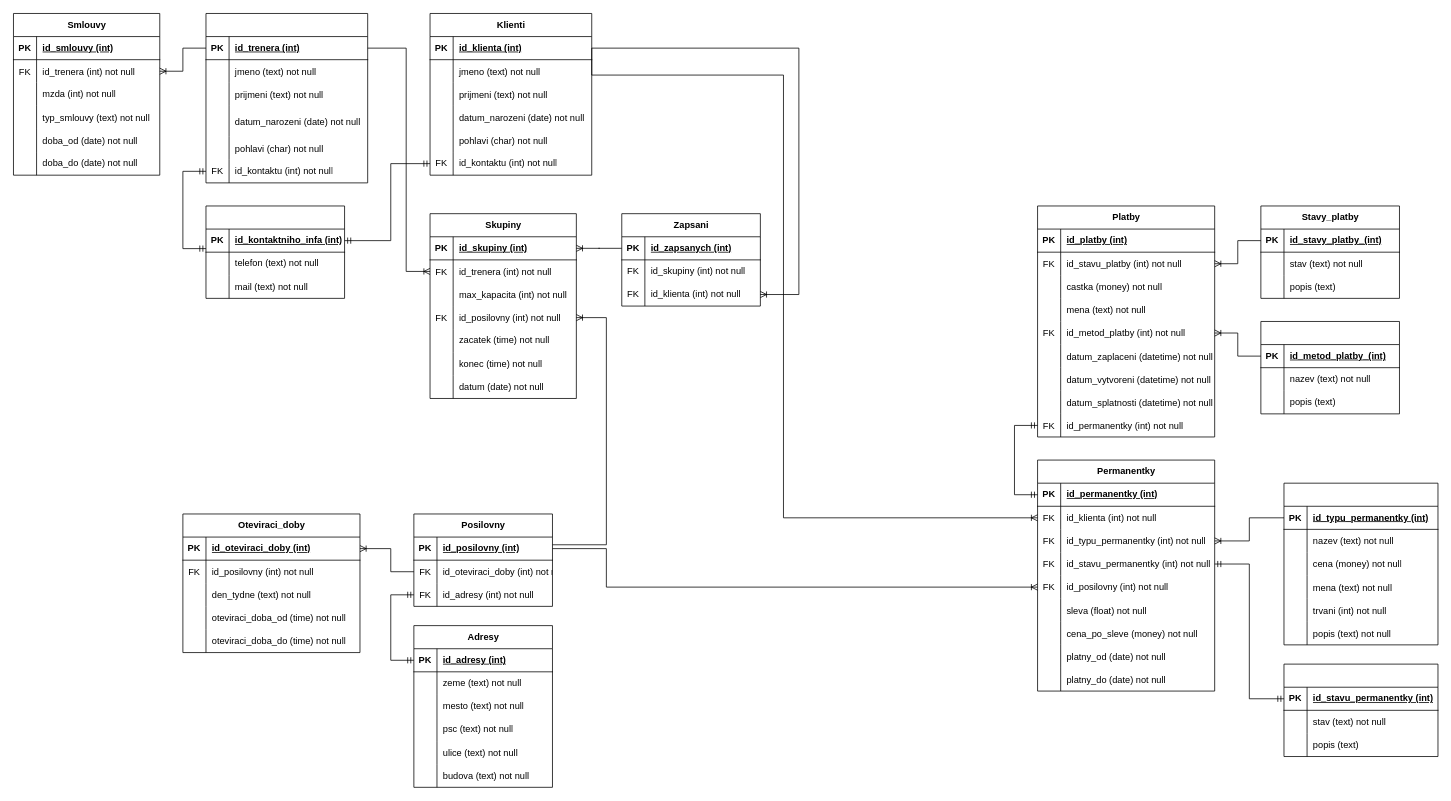
Image size: 1451x801. Some labels were removed from this diagram. Each missing label, with the box of its shape:
Kontakty: (205, 205, 345, 298)
Metody_platby: (1260, 321, 1399, 414)
Stav_permanentky: (1283, 663, 1438, 757)
Treneri: (205, 13, 368, 183)
Typ_permanentky: (1283, 482, 1438, 645)
